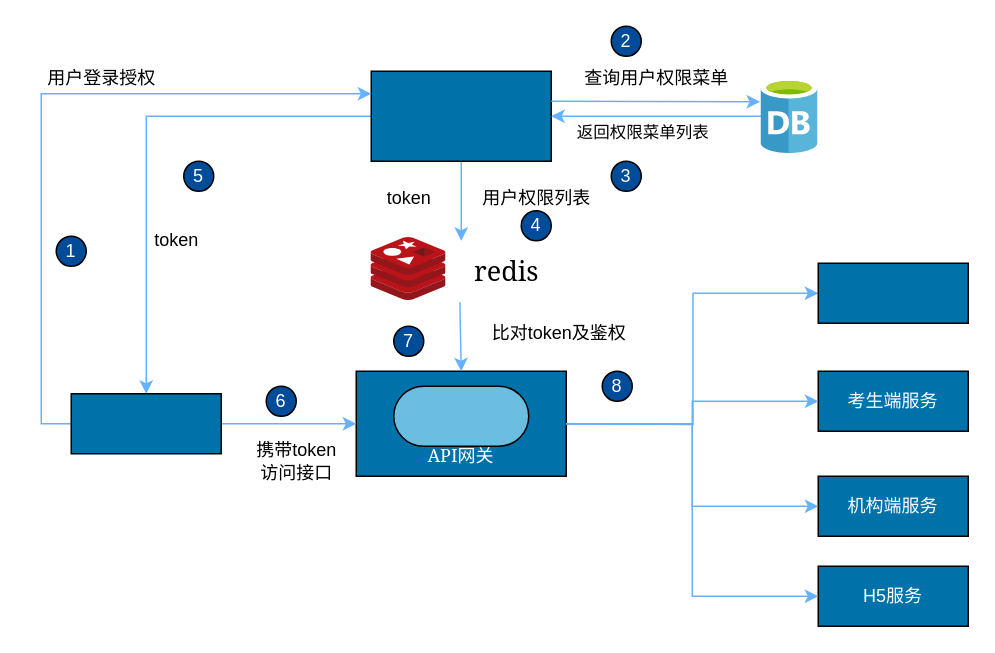
Some shapes in this 995 by 653 pixel diagram are drawn without their labels. The centre of each missing label's shape, as x and y in pixels:
OAuth filter: [460,415]
客户应用: [145,423]
授权服务器: [460,115]
管理端服务: [892,292]
